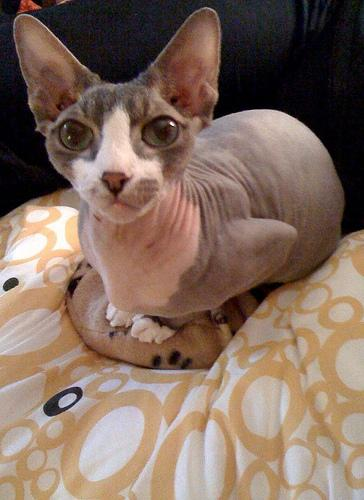cat-Sphynx: (12, 5, 220, 222)
